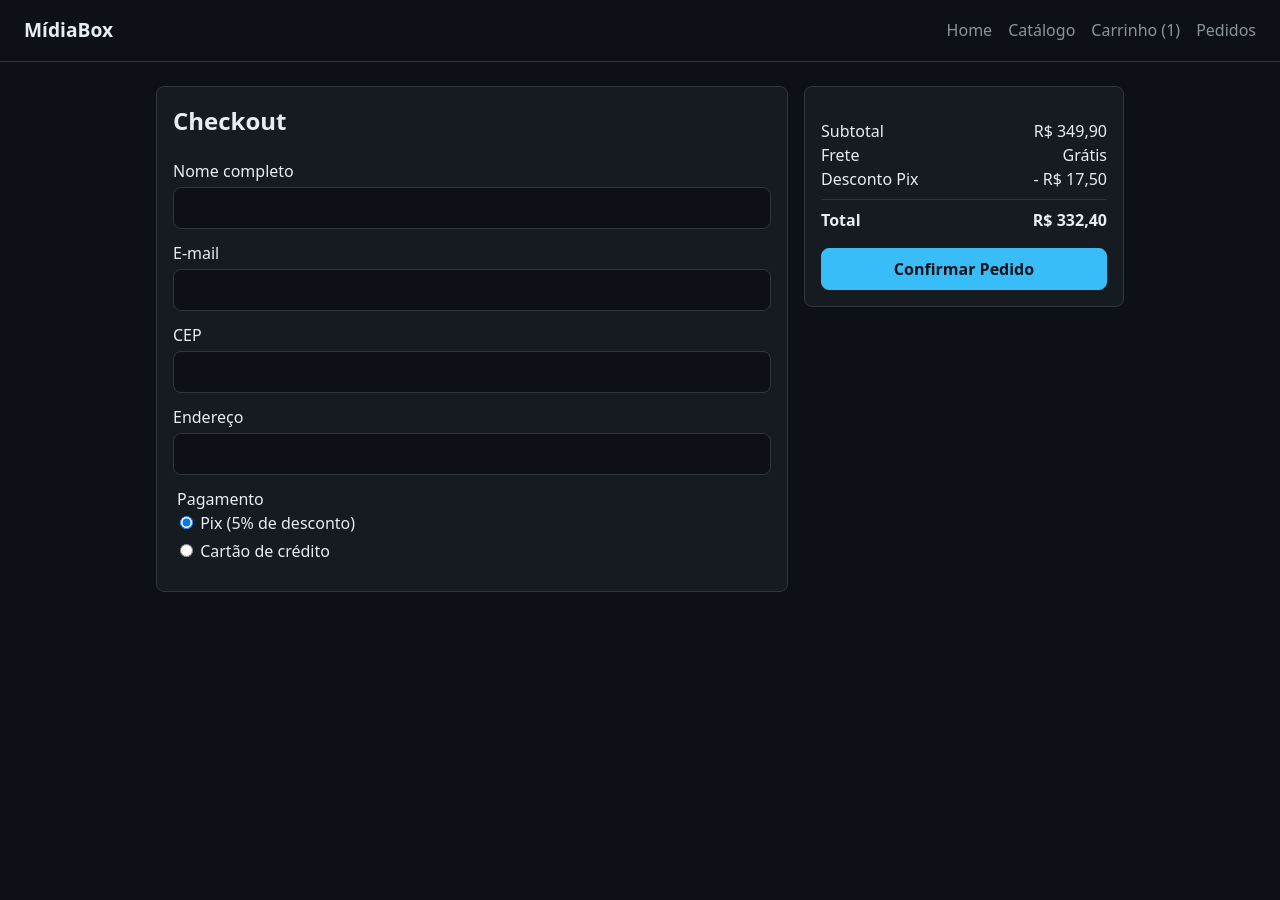
página Checkout › mostra os erros de validação
Click the button "Confirmar Pedido" at (964, 269), box [821,248,1107,290]
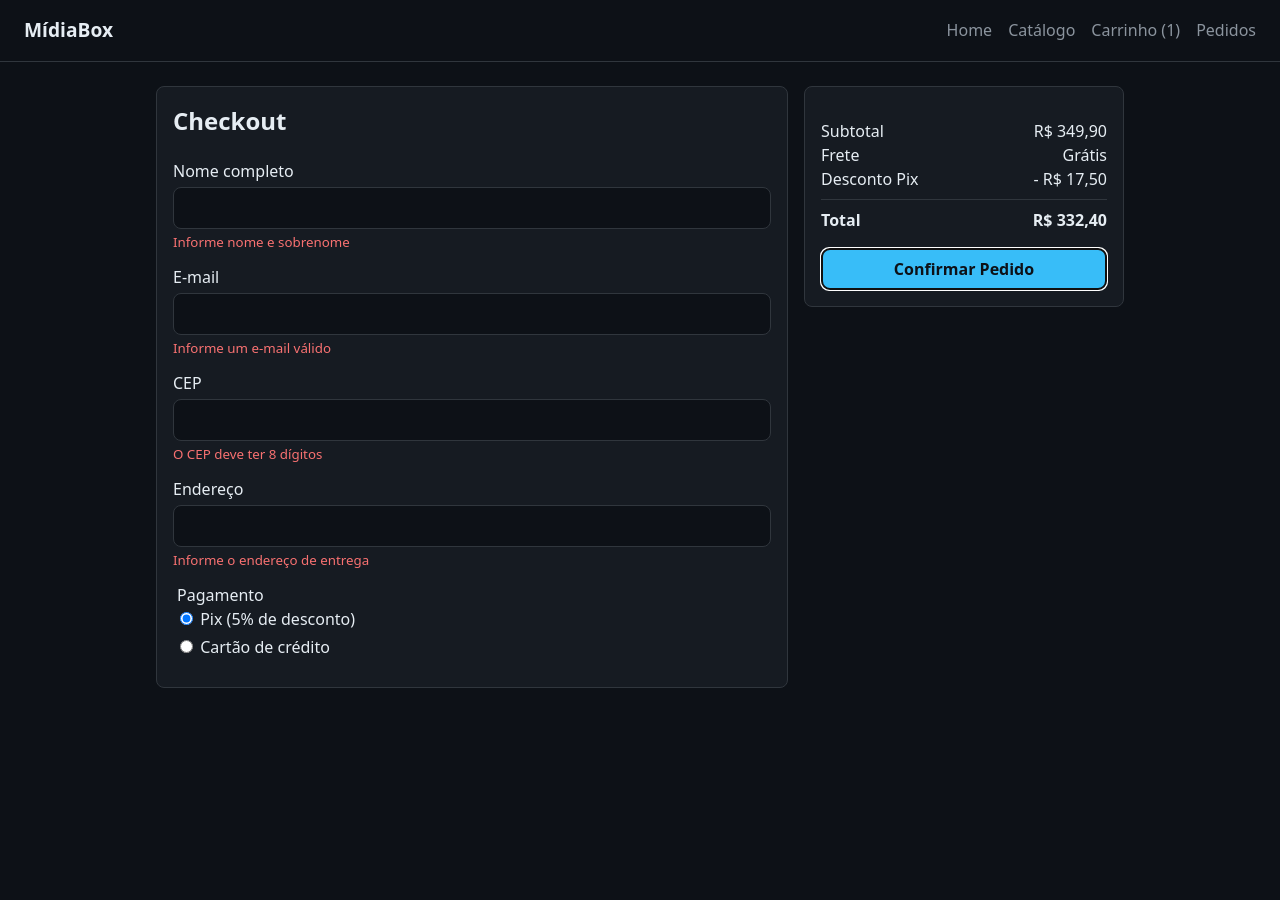
Expected: the text "Informe nome e sobrenome" is shown, [173,233,350,251]
Expected: the text "O CEP deve ter 8 dígitos" is shown, [173,445,322,463]
